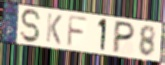1: (96, 18, 108, 54)
8: (138, 24, 157, 59)
F: (66, 13, 89, 49)
K: (45, 12, 64, 47)
P: (111, 20, 137, 55)
S: (19, 8, 43, 45)
